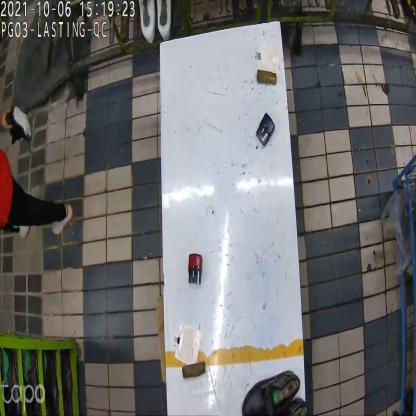shoes: (240, 364, 304, 416)
stamp: (256, 111, 275, 148), (185, 252, 204, 287)
